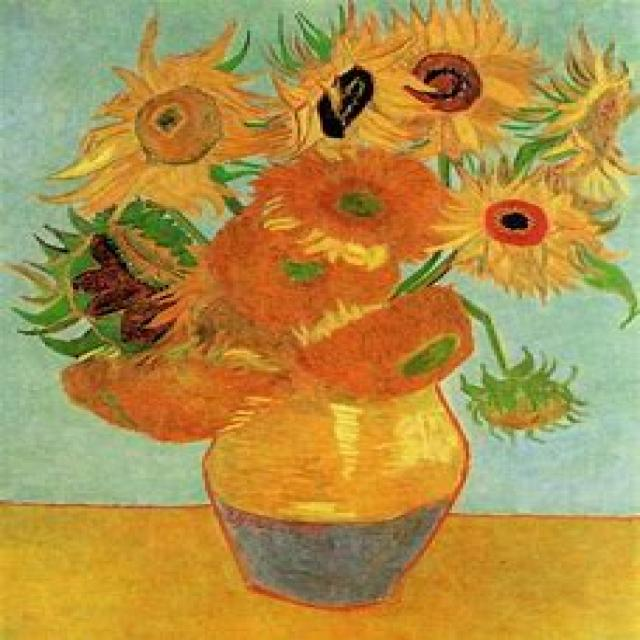sunflower: (7, 5, 637, 636)
